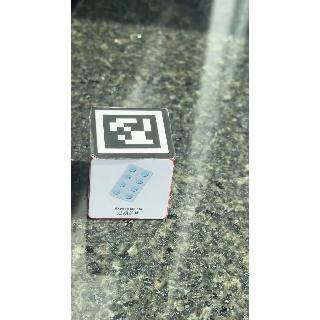Tablet: (94, 156, 169, 224)
